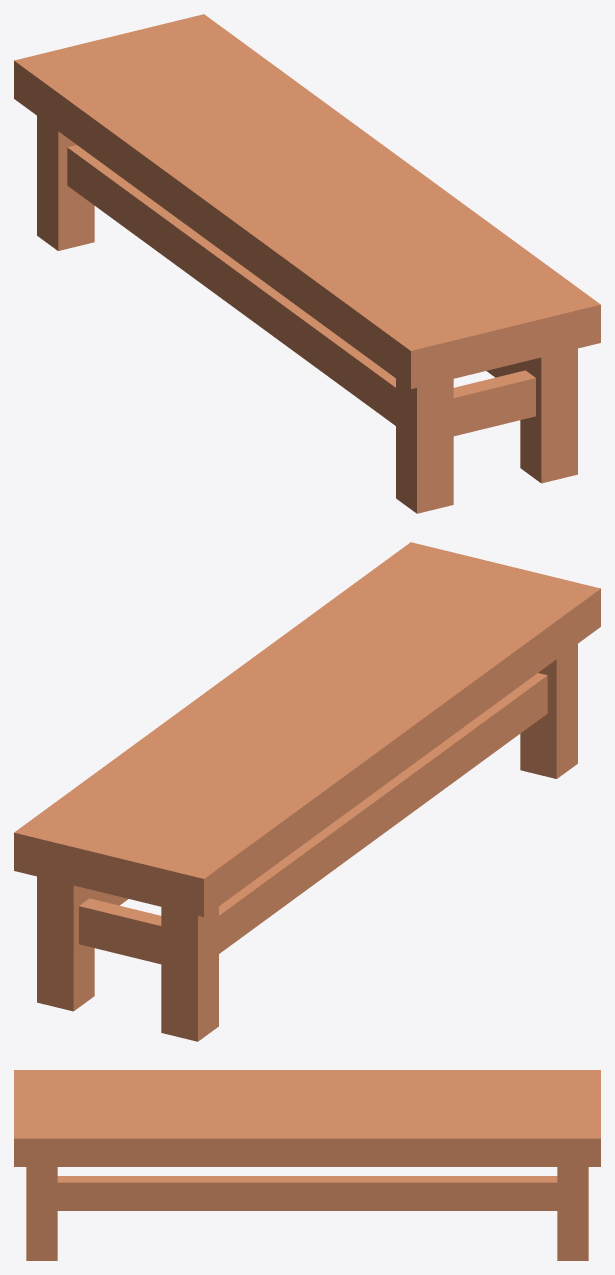
The model's file is stallBench.glb.
3 views of the same model, one above another, from view 1: azimuth 30°, elevation 25°; view 2: azimuth 150°, elevation 25°; view 3: azimuth 270°, elevation 25° (orthographic). The views are drawn at different scales.
Visible parts, largest first — view 1: stallBench; view 2: stallBench; view 3: stallBench.
Boxes of the visible parts, x1=… form: stallBench: x1=14, y1=14, x2=600, y2=513; stallBench: x1=14, y1=542, x2=600, y2=1041; stallBench: x1=14, y1=1070, x2=600, y2=1260.
Size of the model in its own units: 0.78 by 0.6765 by 2.82.
